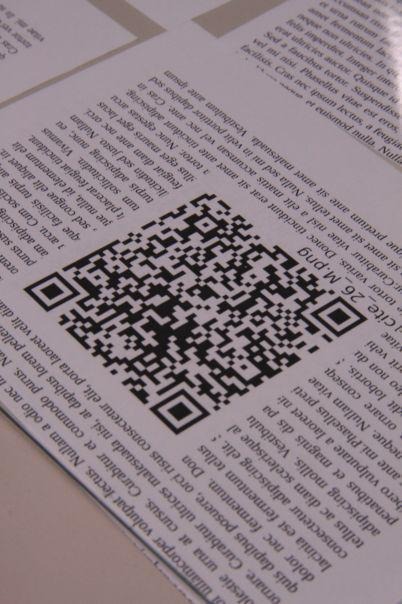qr_code: (24, 189, 368, 435)
